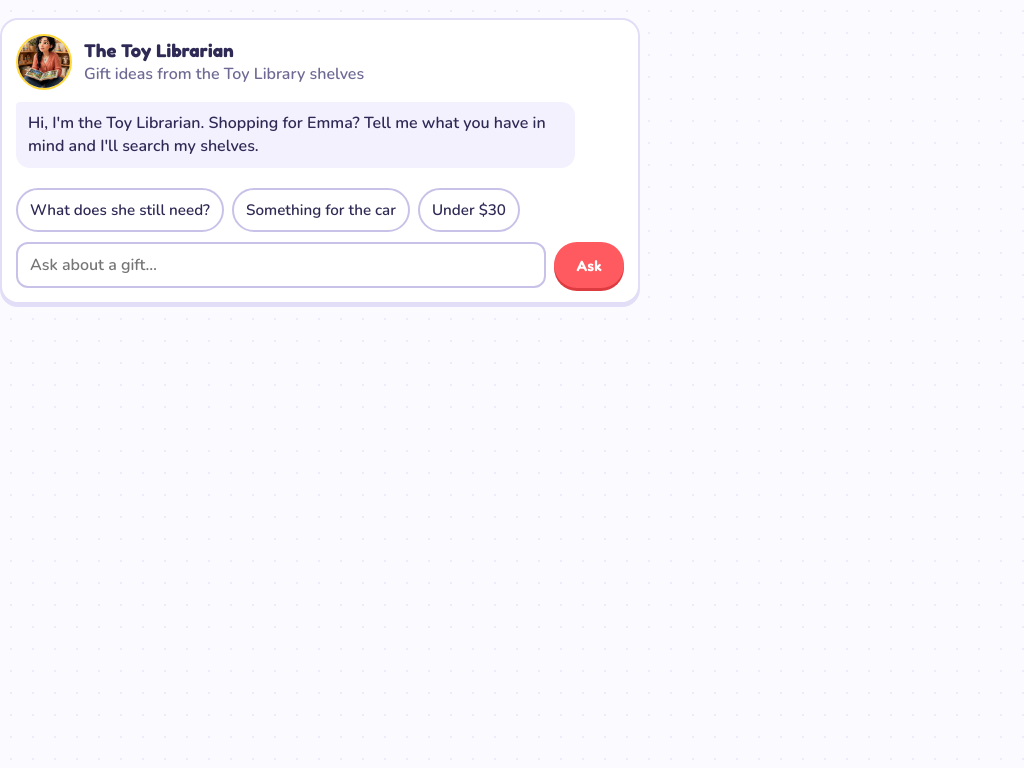
flag ON › a chip sends a page-mode turn; the streamed reply renders with candidate links
Click the button "What does she still need?" at [120, 210], box [16,188,224,232]
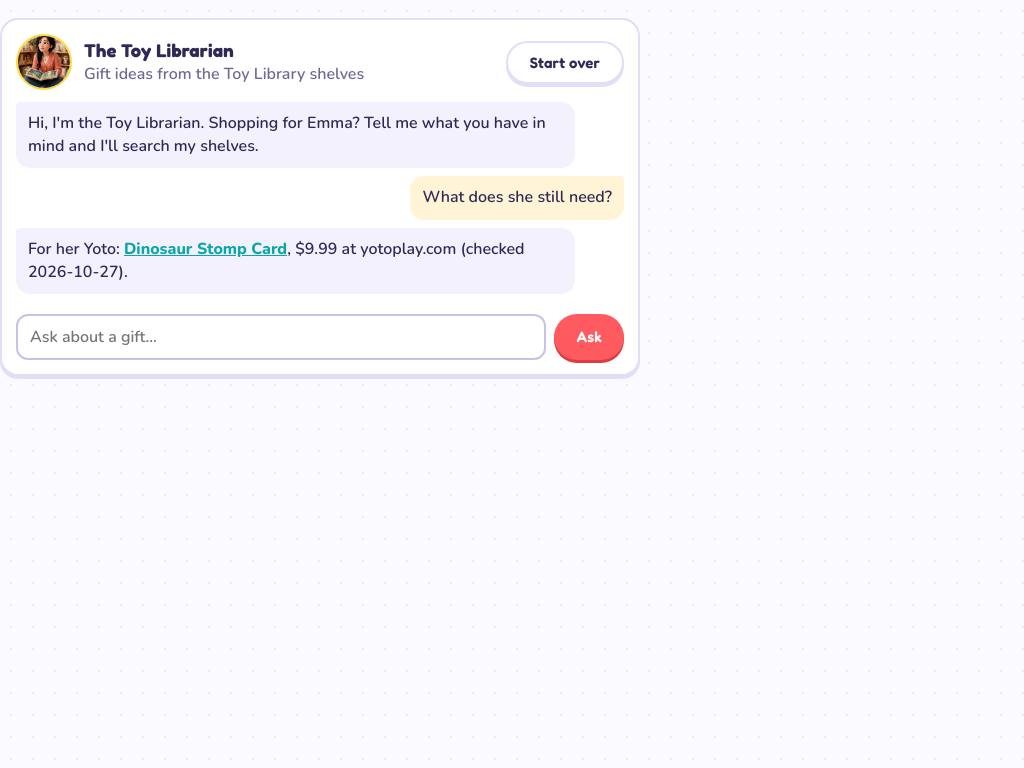
Check: the button "Something for the car" is gone
Type "Thanks!" into the field named "Message the Toy Librarian" at [281, 337], box [16,314,546,360]
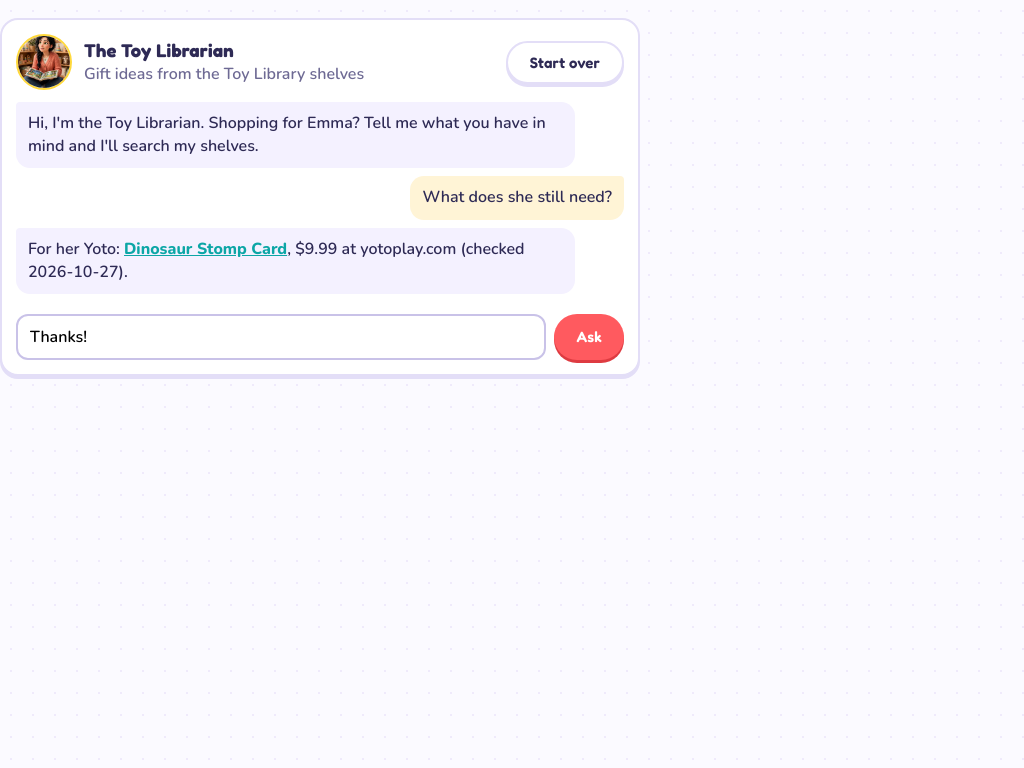
Click the button "Ask" at [589, 337], box [554,314,624,360]
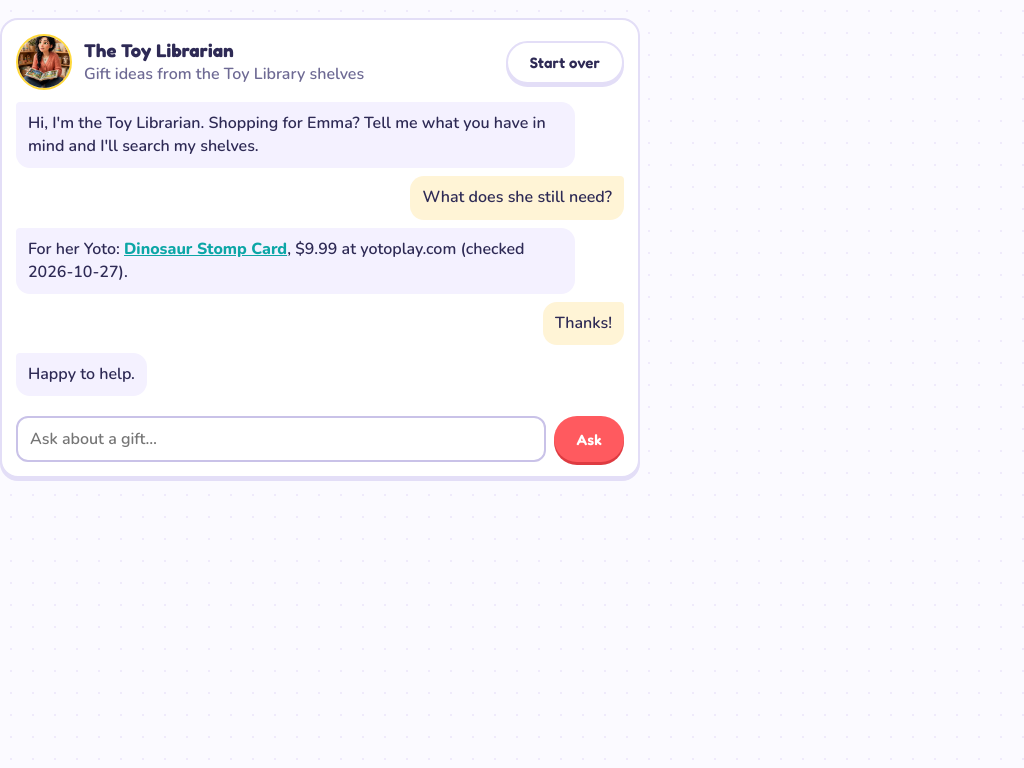
Check: the text "Happy to help." is shown, box [28,363,135,385]
